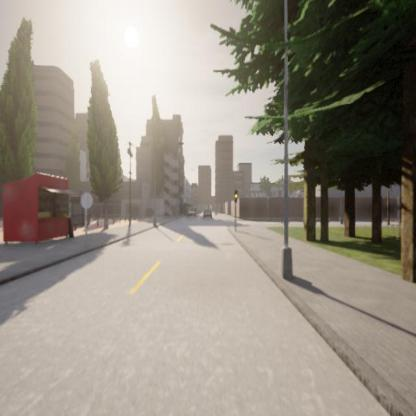traffic_light_orange: (235, 190, 237, 203)
